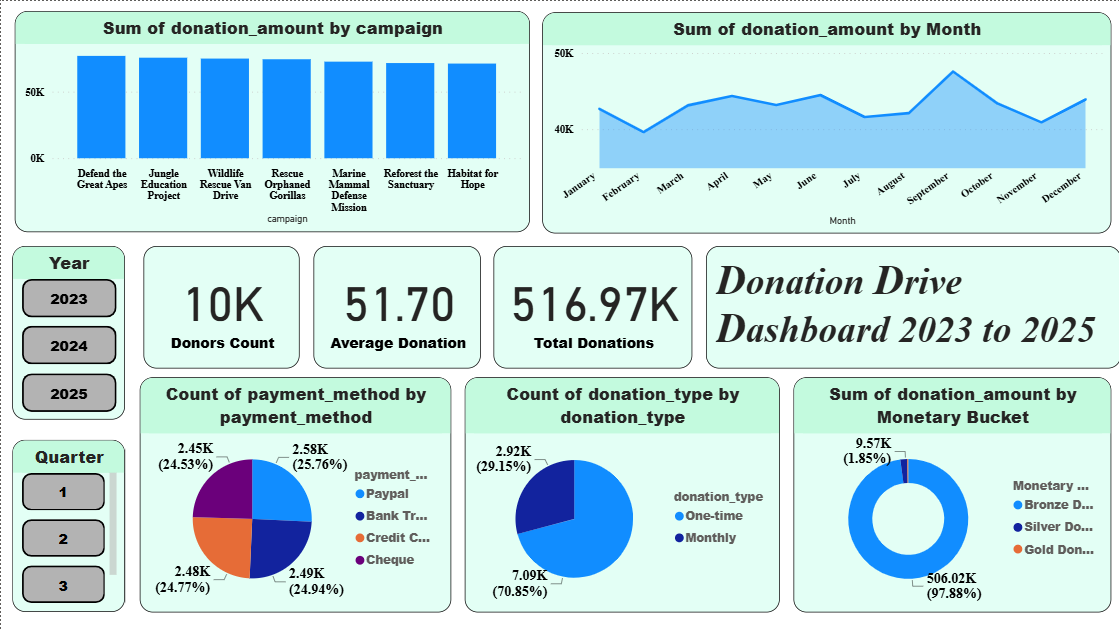

This screenshot's page, from the dashboard's own definition file:
{"tool":"powerbi","page":{"name":"Page 1","canvas":[1280,720],"ordinal":0},"visuals":[{"type":"card","fields":{"Values":["animal_charity_donation_records.Total Donations"]},"box":[562.9,280,227.1,140],"z":0},{"type":"card","fields":{"Values":["animal_charity_donation_records.Donors Count"]},"box":[162.9,280,178.6,140],"z":1000},{"type":"card","fields":{"Values":["animal_charity_donation_records.Average Donation"]},"box":[357.1,280,191.4,140],"z":2000},{"type":"donutChart","fields":{"Category":["animal_charity_donation_records.Monetary Bucket"],"Y":["Sum(animal_charity_donation_records.donation_amount)"]},"box":[905.7,430,362.9,268.6],"z":3000},{"type":"columnChart","fields":{"Category":["animal_charity_donation_records.campaign"],"Y":["Sum(animal_charity_donation_records.donation_amount)"]},"box":[15.7,11.4,588.6,252.9],"z":4000},{"type":"areaChart","fields":{"Y":["Sum(animal_charity_donation_records.donation_amount)"],"Category":["animal_charity_donation_records.donation_date.Variation.Date Hierarchy.Month"]},"box":[618.6,12.9,650,252.9],"z":5000},{"type":"advancedSlicerVisual","fields":{"Values":["animal_charity_donation_records.donation_date.Variation.Date Hierarchy.Year"]},"box":[12.9,280,128.6,198.6],"z":6000},{"type":"advancedSlicerVisual","fields":{"Values":["animal_charity_donation_records.Quarter"]},"box":[12.9,501.4,128.6,197.1],"z":7000},{"type":"pieChart","fields":{"Category":["animal_charity_donation_records.payment_method"],"Y":["CountNonNull(animal_charity_donation_records.payment_method)"]},"box":[158.6,430,355.7,268.6],"z":9000},{"type":"pieChart","fields":{"Category":["animal_charity_donation_records.donation_type"],"Y":["CountNonNull(animal_charity_donation_records.donation_type)"]},"box":[530,430,360,268.6],"z":10000},{"type":"textbox","box":[805.7,280,474.3,140],"z":11000}]}

Visuals, with their boxes in screenshot pixels (x1, y1, x2, y2), scaled from the page's 1280x720 canvas onto the 1119x629 screenshot:
card - animal_charity_donation_records.Total Donations: <region>492, 245, 691, 367</region>
card - animal_charity_donation_records.Donors Count: <region>142, 245, 299, 367</region>
card - animal_charity_donation_records.Average Donation: <region>312, 245, 480, 367</region>
donutChart - animal_charity_donation_records.Monetary Bucket x Sum(animal_charity_donation_records.donation_amount): <region>792, 376, 1109, 610</region>
columnChart - animal_charity_donation_records.campaign x Sum(animal_charity_donation_records.donation_amount): <region>14, 10, 528, 231</region>
areaChart - Sum(animal_charity_donation_records.donation_amount) x animal_charity_donation_records.donation_date.Variation.Date Hierarchy.Month: <region>541, 11, 1109, 232</region>
advancedSlicerVisual - animal_charity_donation_records.donation_date.Variation.Date Hierarchy.Year: <region>11, 245, 124, 418</region>
advancedSlicerVisual - animal_charity_donation_records.Quarter: <region>11, 438, 124, 610</region>
pieChart - animal_charity_donation_records.payment_method x CountNonNull(animal_charity_donation_records.payment_method): <region>139, 376, 450, 610</region>
pieChart - animal_charity_donation_records.donation_type x CountNonNull(animal_charity_donation_records.donation_type): <region>463, 376, 778, 610</region>
textbox: <region>704, 245, 1118, 367</region>
